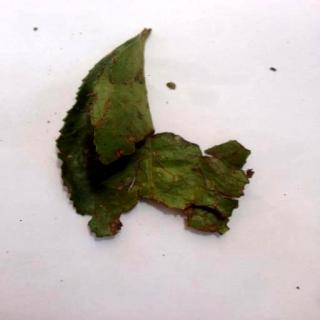Algal Leaf: (57, 30, 256, 241)
